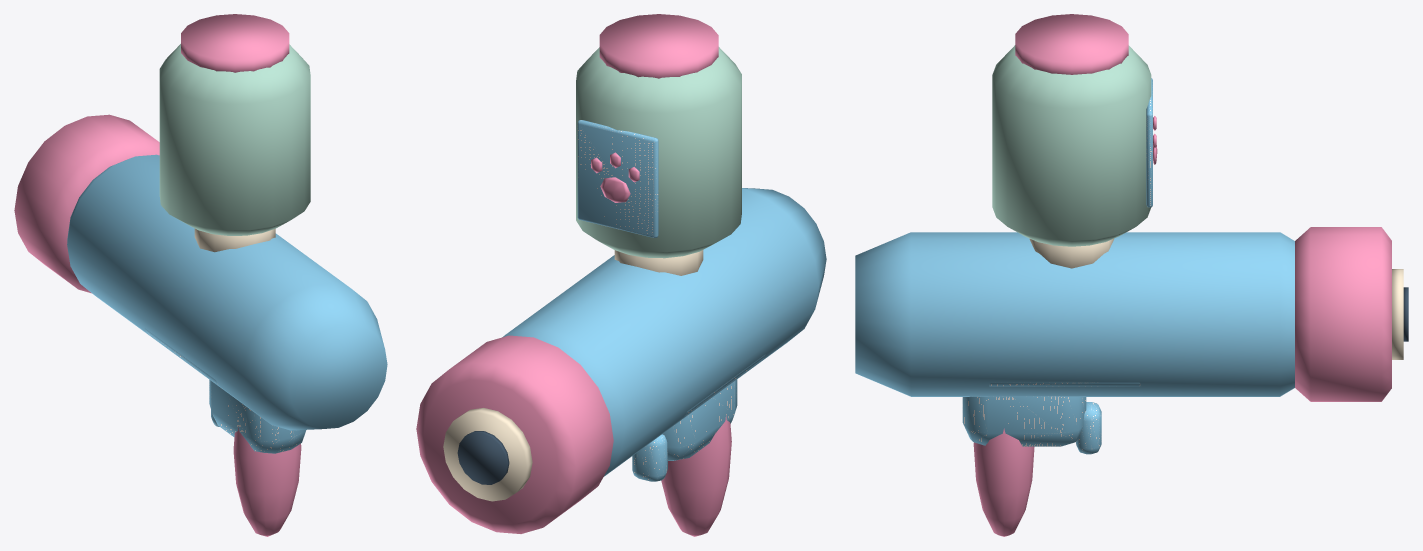
The model's file is foam_cannon.glb.
3 renders of one model, left to right at view 1: azimuth 30°, elevation 25°; view 2: azimuth 150°, elevation 25°; view 3: azimuth 270°, elevation 25°, orthographic. The views are drawn at different scales.
Visible parts, largest first — view 1: Body; view 2: Body; view 3: Body.
Boxes of the visible parts, bbox=[...] form: Body: bbox=[14, 14, 387, 536]; Body: bbox=[416, 14, 826, 536]; Body: bbox=[855, 14, 1408, 536].
Bounding box in the file's own units: 0.1113 × 0.3479 × 0.35.
6 materials, 6 textured.
